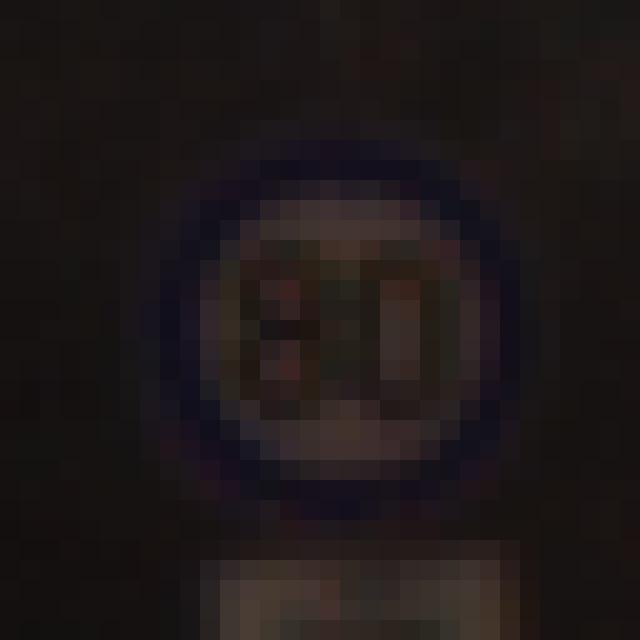SPEED-LIMIT-80: (163, 159, 512, 496)
